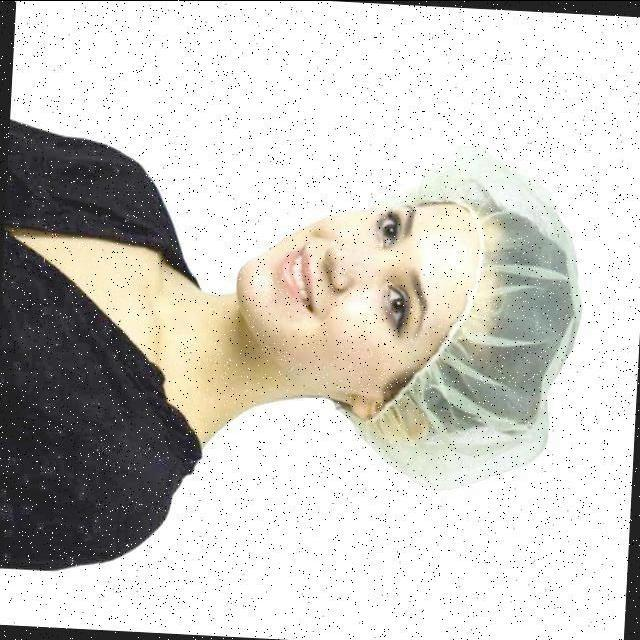no_hairnet: (259, 208, 367, 382)
